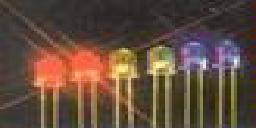LED: (106, 43, 139, 128), (67, 46, 100, 128), (33, 56, 67, 127), (180, 39, 207, 128), (147, 43, 174, 128), (209, 35, 241, 77)
